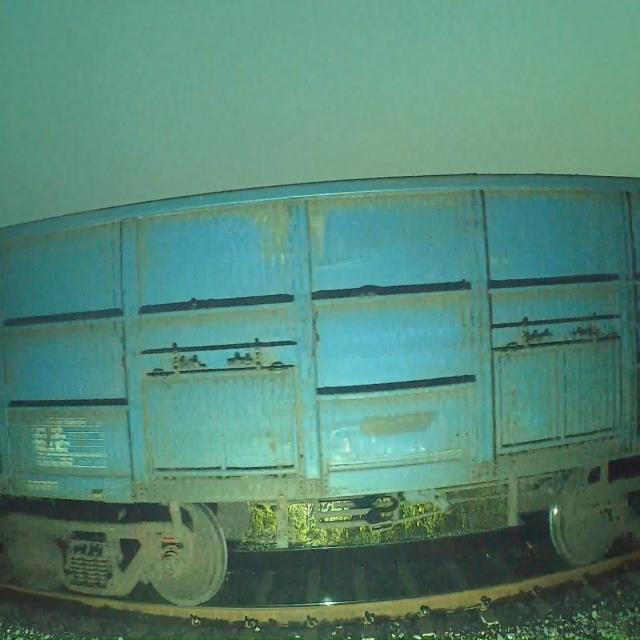WAgon-uic: (0, 171, 639, 605)
